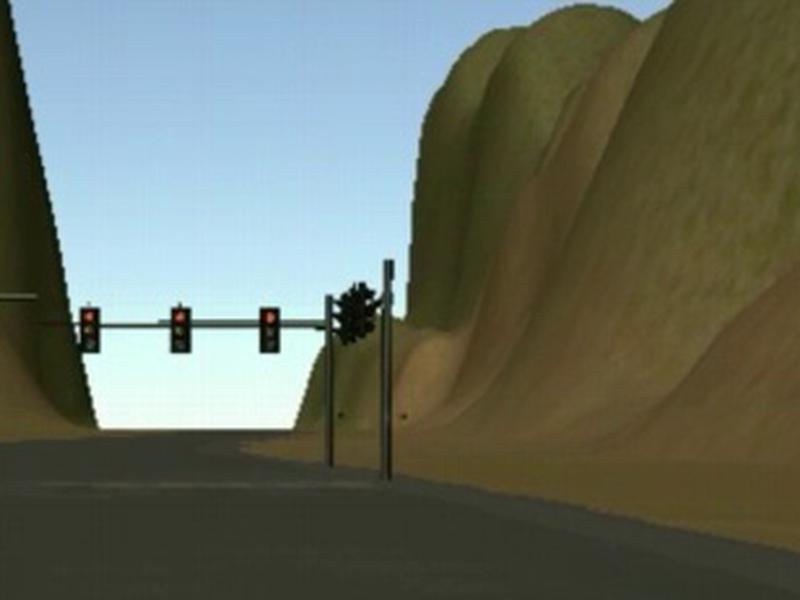Red: (170, 306, 191, 356), (79, 306, 100, 352), (260, 306, 280, 353)
